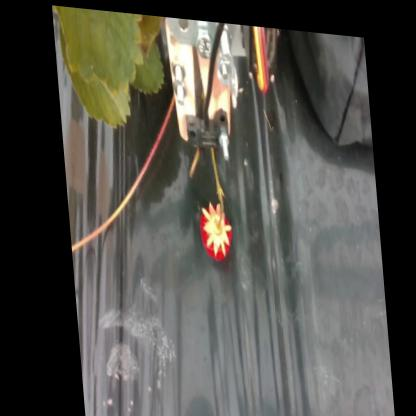ripe: (192, 194, 235, 261)
